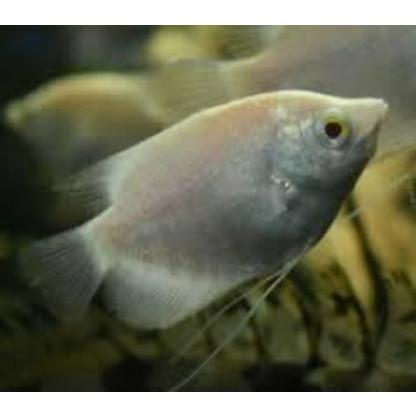gurame: (43, 89, 389, 322)
